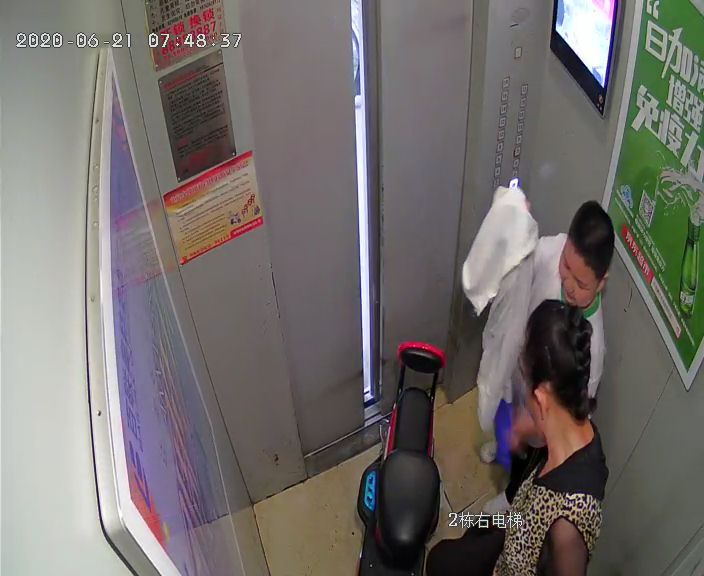Electric-bicycle: (355, 338, 448, 573)
